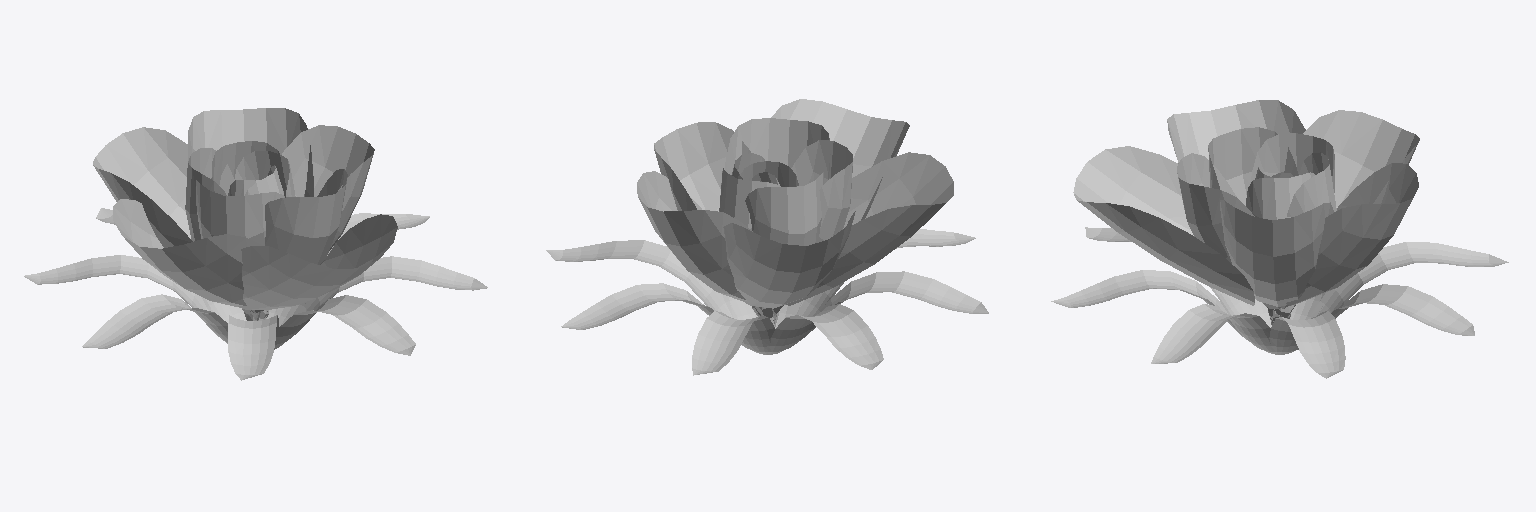
File: FlowerTopModel_03_seq_0030.obj
3 renders of one model, left to right at view 1: azimuth 30°, elevation 25°; view 2: azimuth 150°, elevation 25°; view 3: azimuth 270°, elevation 25°, orthographic.
Visible parts, largest first — view 1: FlowerTopModel_03; view 2: FlowerTopModel_03; view 3: FlowerTopModel_03.
Boxes of the visible parts, x1=… form: FlowerTopModel_03: x1=24, y1=108, x2=487, y2=380; FlowerTopModel_03: x1=546, y1=99, x2=988, y2=375; FlowerTopModel_03: x1=1051, y1=100, x2=1508, y2=378.
Size of the model in its own units: 775 by 360 by 775.